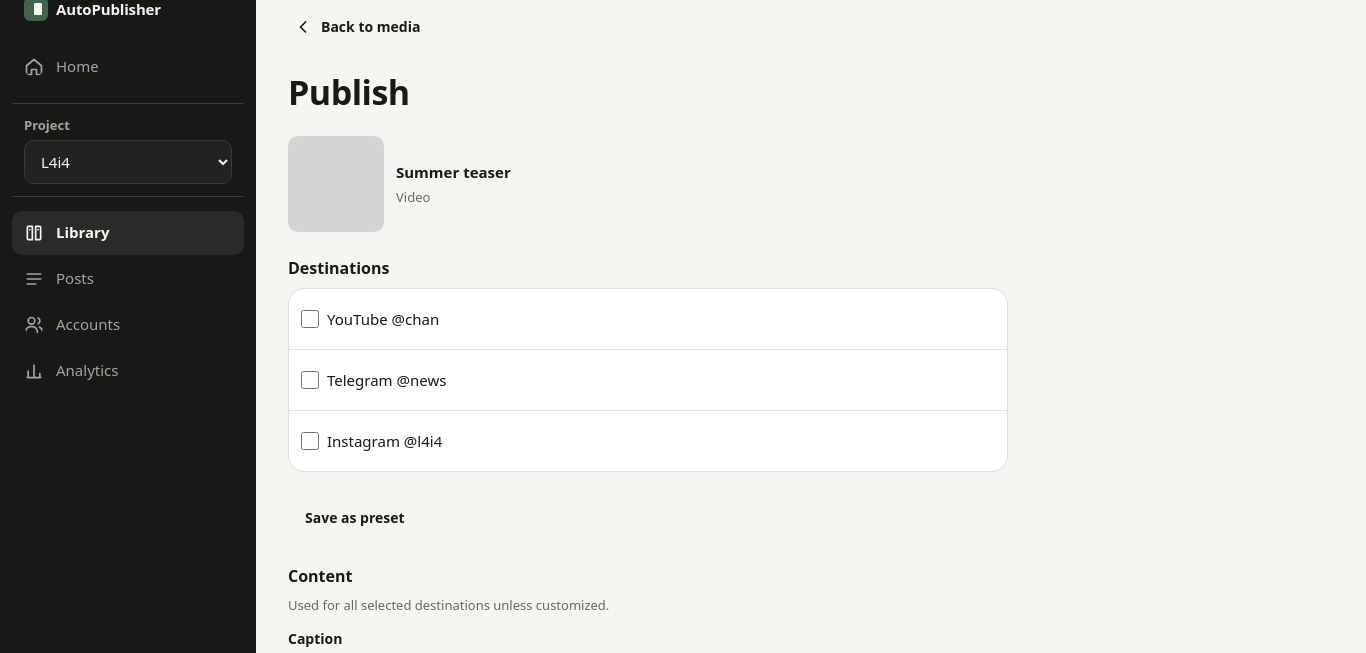
Test: opens one customization form at a time, with a title only for YouTube
This screenshot has width=1366, height=653.
Expected: the heading "Publish" is shown, left=288, top=69, right=410, bottom=115
Expected: the element "Destinations" is shown, left=288, top=256, right=1008, bottom=472
Click the checkbox labelled "YouTube @chan". click: [310, 319]
box: left=301, top=310, right=319, bottom=328
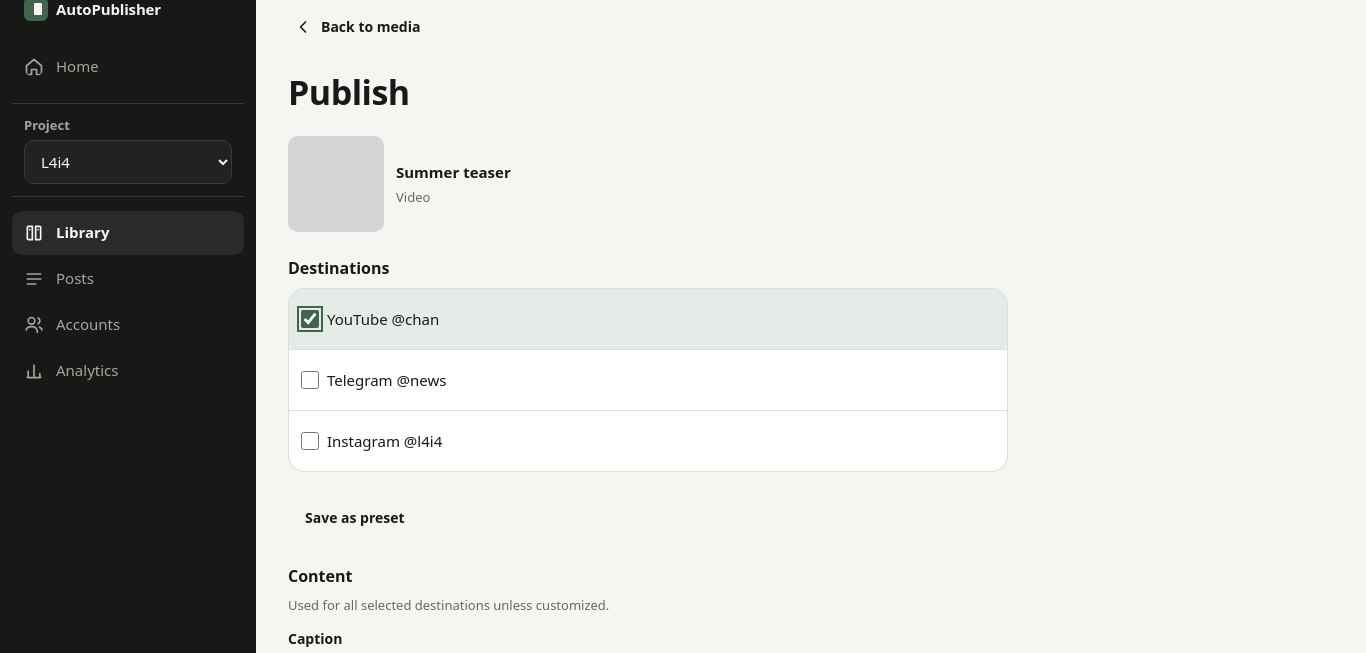
Click the checkbox labelled "Telegram @news". click: [310, 380]
box: left=301, top=371, right=319, bottom=389
(page scrolled)
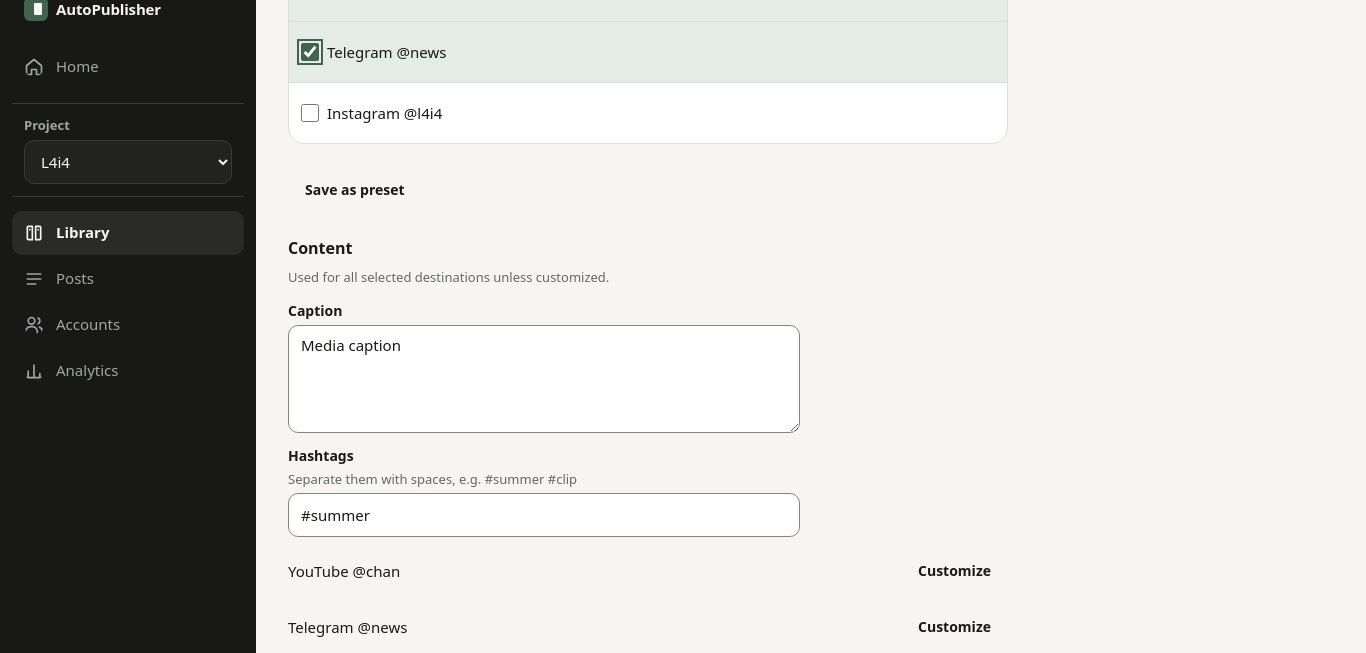
Expected: the text "Used for all selected destinations unless customized." is shown, left=288, top=268, right=609, bottom=286
Click the button with aria-label "Customize YouTube @chan". click: [954, 571]
box: left=901, top=549, right=1008, bottom=593
(page scrolled)
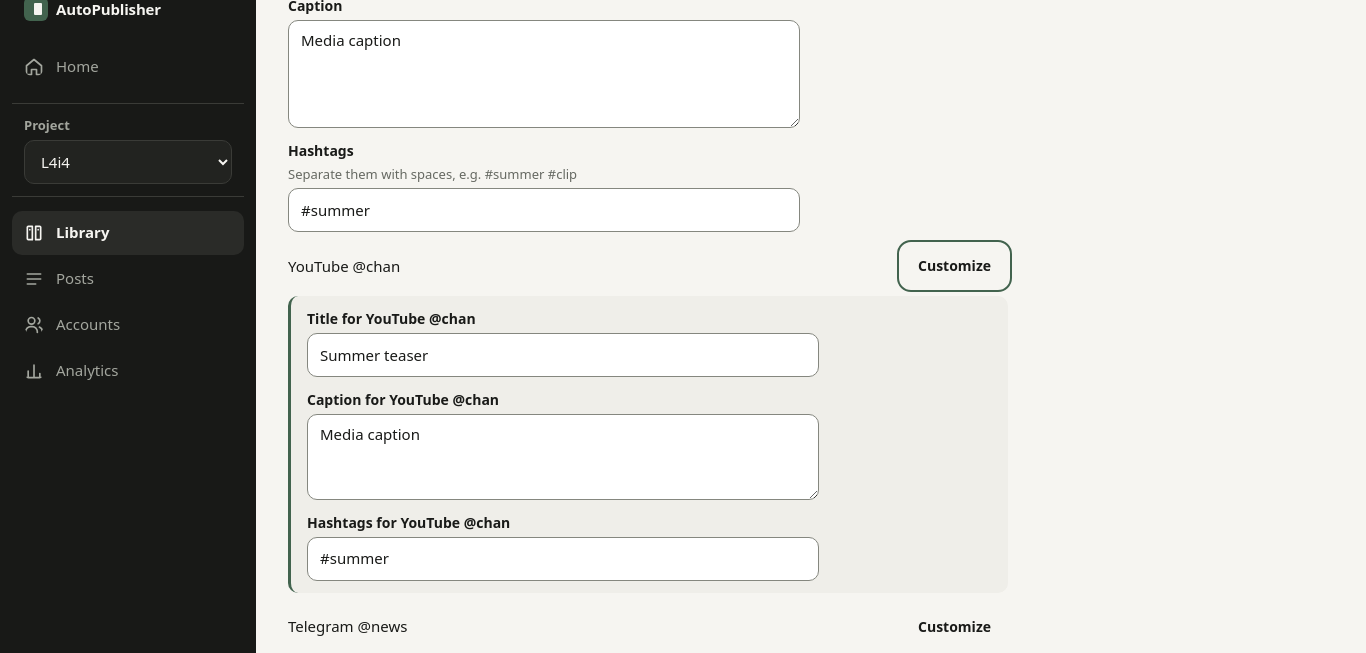
Expected: the field labelled "Title for YouTube @chan" holds "Summer teaser", left=307, top=333, right=819, bottom=377
Click the button with aria-label "Customize Telegram @news". click: [954, 627]
box: left=901, top=605, right=1008, bottom=649
(page scrolled)
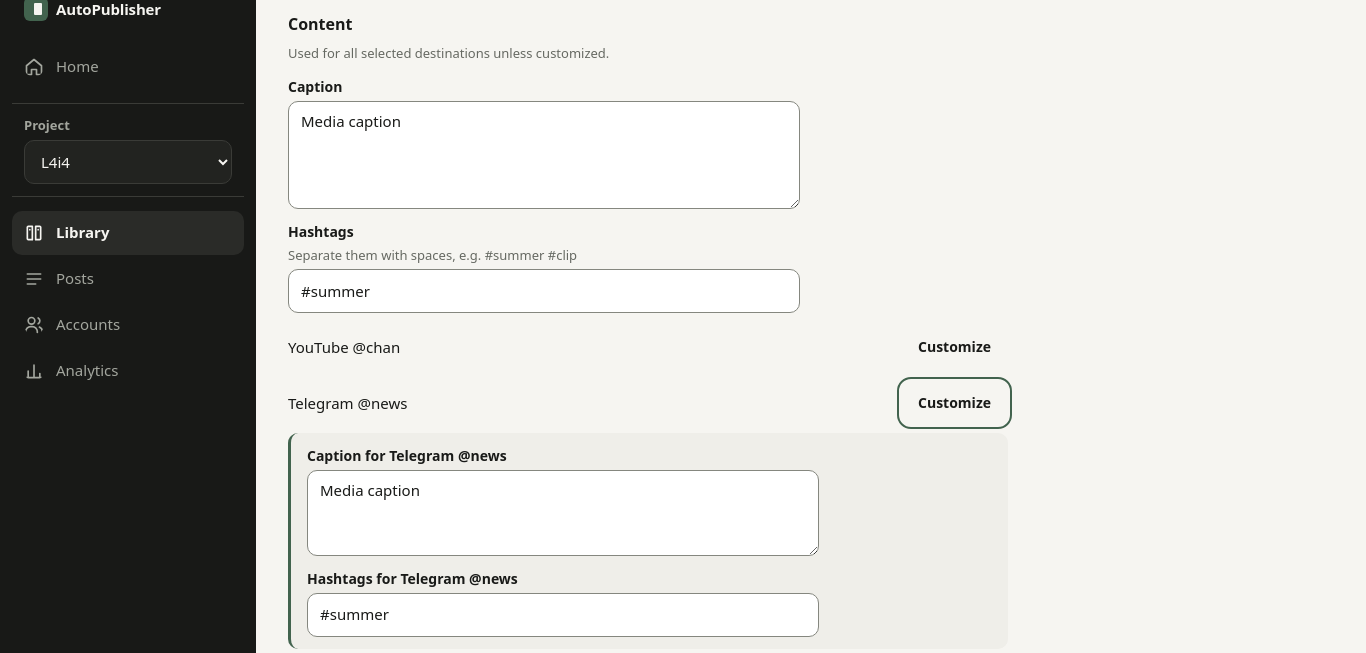
Expected: the text box labelled "Caption for Telegram @news" holds "Media caption", left=307, top=470, right=819, bottom=556
Expected: the label labelled "Title for YouTube @chan" is gone
